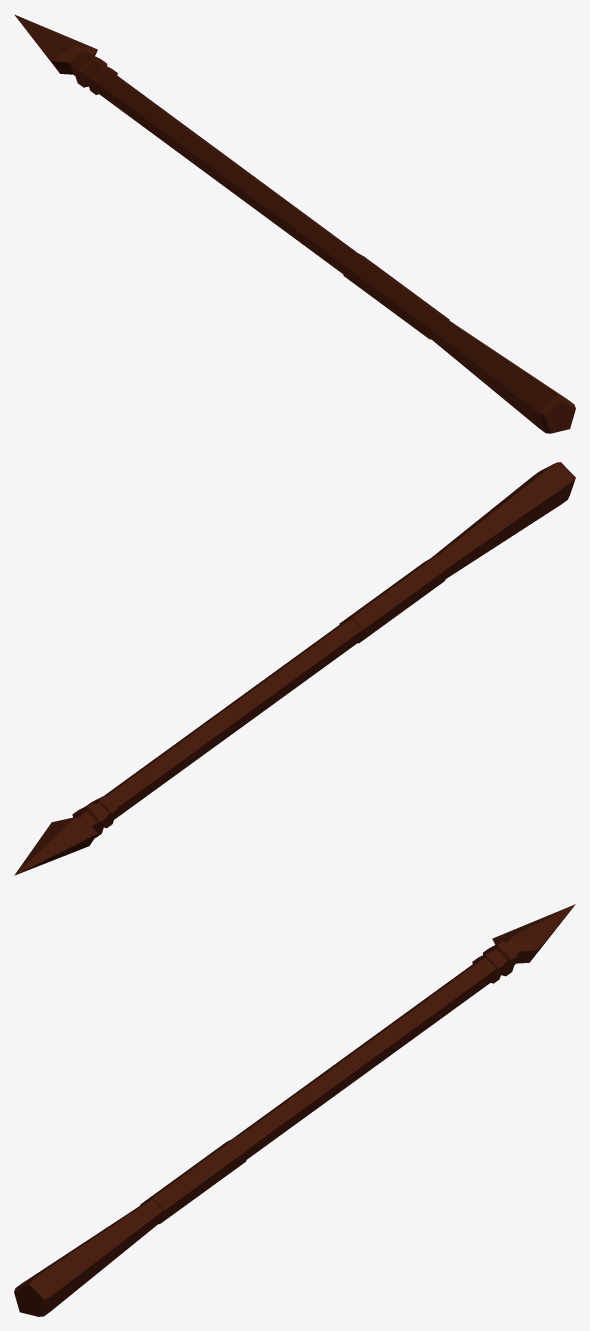
The model's file is Spear.glb.
3 views of the same model, one above another, from view 1: azimuth 30°, elevation 25°; view 2: azimuth 150°, elevation 25°; view 3: azimuth 330°, elevation 25° (orthographic).
Parts seen in each view (by area): view 1: Spear; view 2: Spear; view 3: Spear.
Part boxes in pixels (x1,y1,x2,y2): Spear: [14, 14, 575, 433]; Spear: [14, 462, 575, 875]; Spear: [14, 904, 575, 1316].
Size of the model in its own units: 10.65 by 7.69 by 217.
